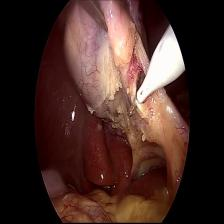Hook: (128, 27, 184, 123)
